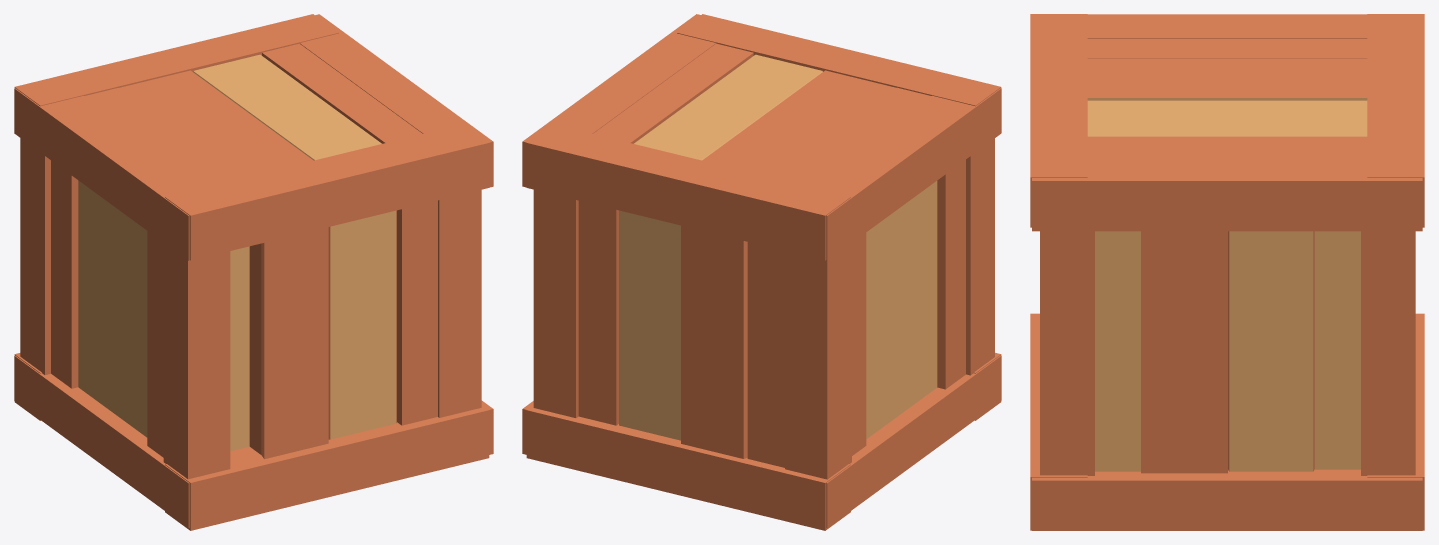
File: Wooden_box.fbx
3 renders of one model, left to right at view 1: azimuth 30°, elevation 25°; view 2: azimuth 150°, elevation 25°; view 3: azimuth 270°, elevation 25°, orthographic. The views are drawn at different scales.
Parts seen in each view (by area): view 1: Wooden_box; view 2: Wooden_box; view 3: Wooden_box.
Part boxes in pixels (<box>): Wooden_box: <box>14,14,493,530</box>; Wooden_box: <box>522,14,1001,530</box>; Wooden_box: <box>1030,14,1424,530</box>.
Size of the model in its own units: 58.82 by 58.82 by 58.11.
